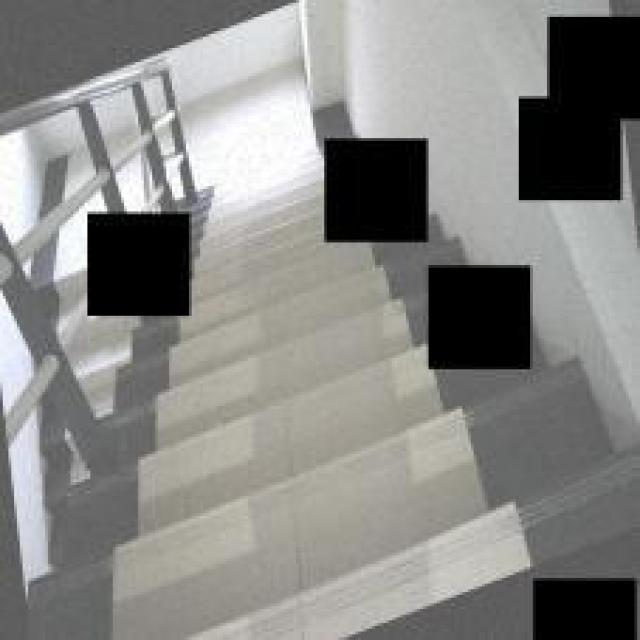downstair: (201, 272, 427, 638)
